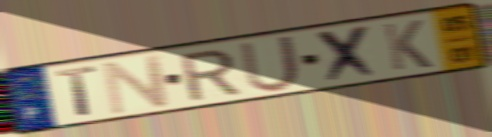K: (380, 18, 436, 73)
N: (100, 52, 173, 117)
R: (177, 47, 243, 103)
T: (53, 64, 100, 119)
U: (237, 32, 304, 94)
X: (314, 22, 383, 87)
